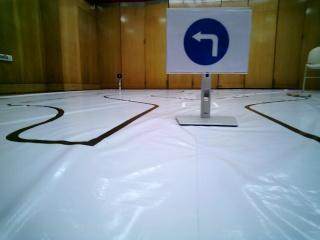left: (171, 14, 242, 67)
